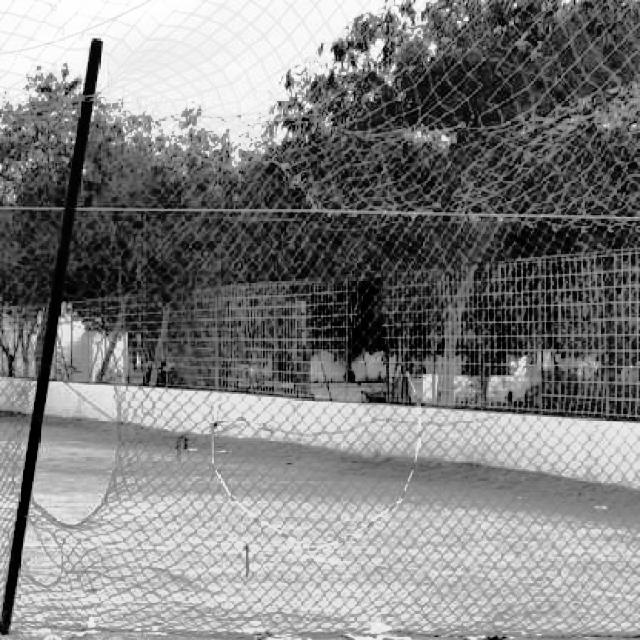anomaly-fence: (0, 253, 119, 634)
